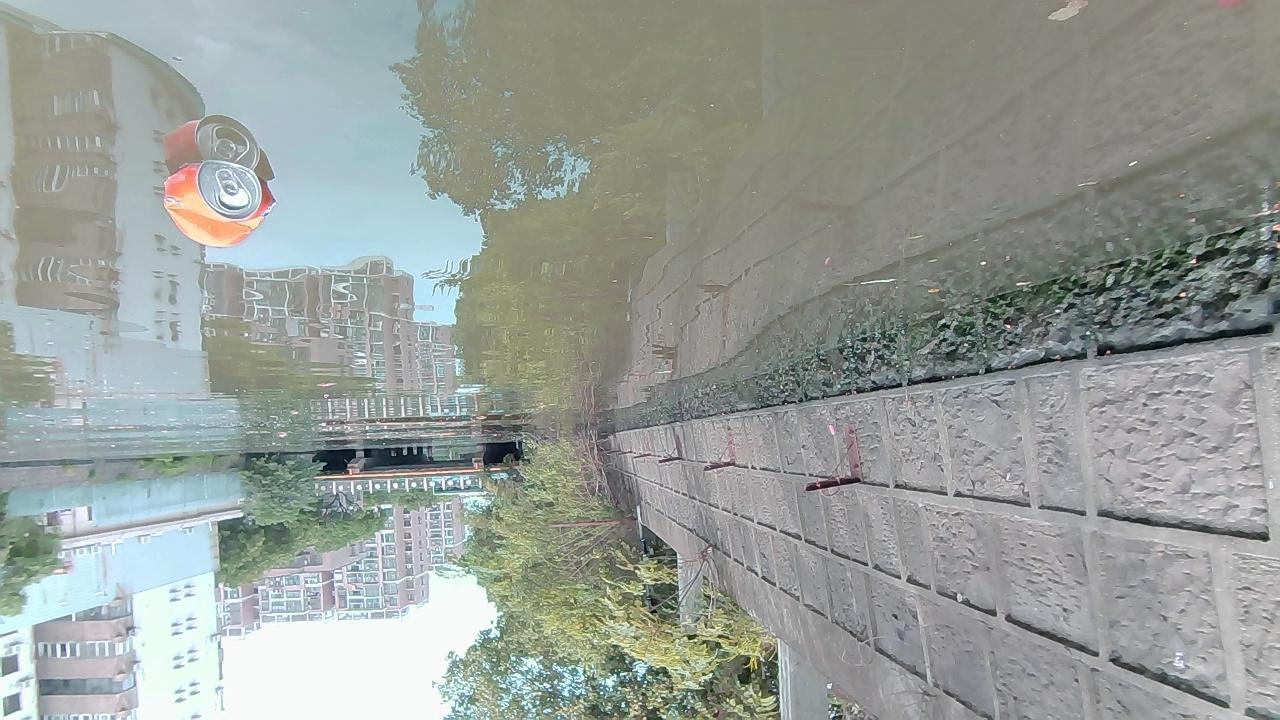Metal: (161, 158, 278, 248)
